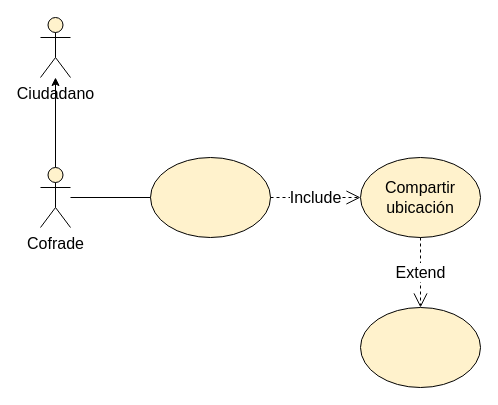
This 498x405 diagram has some shape labels left out. Here are the shapes that lost their labels. From the top down, the centre of each, then its label:
At [210,197]: "Acceder al modo cofrade".
At [420,347]: "Dejar de compartir ubicación".
